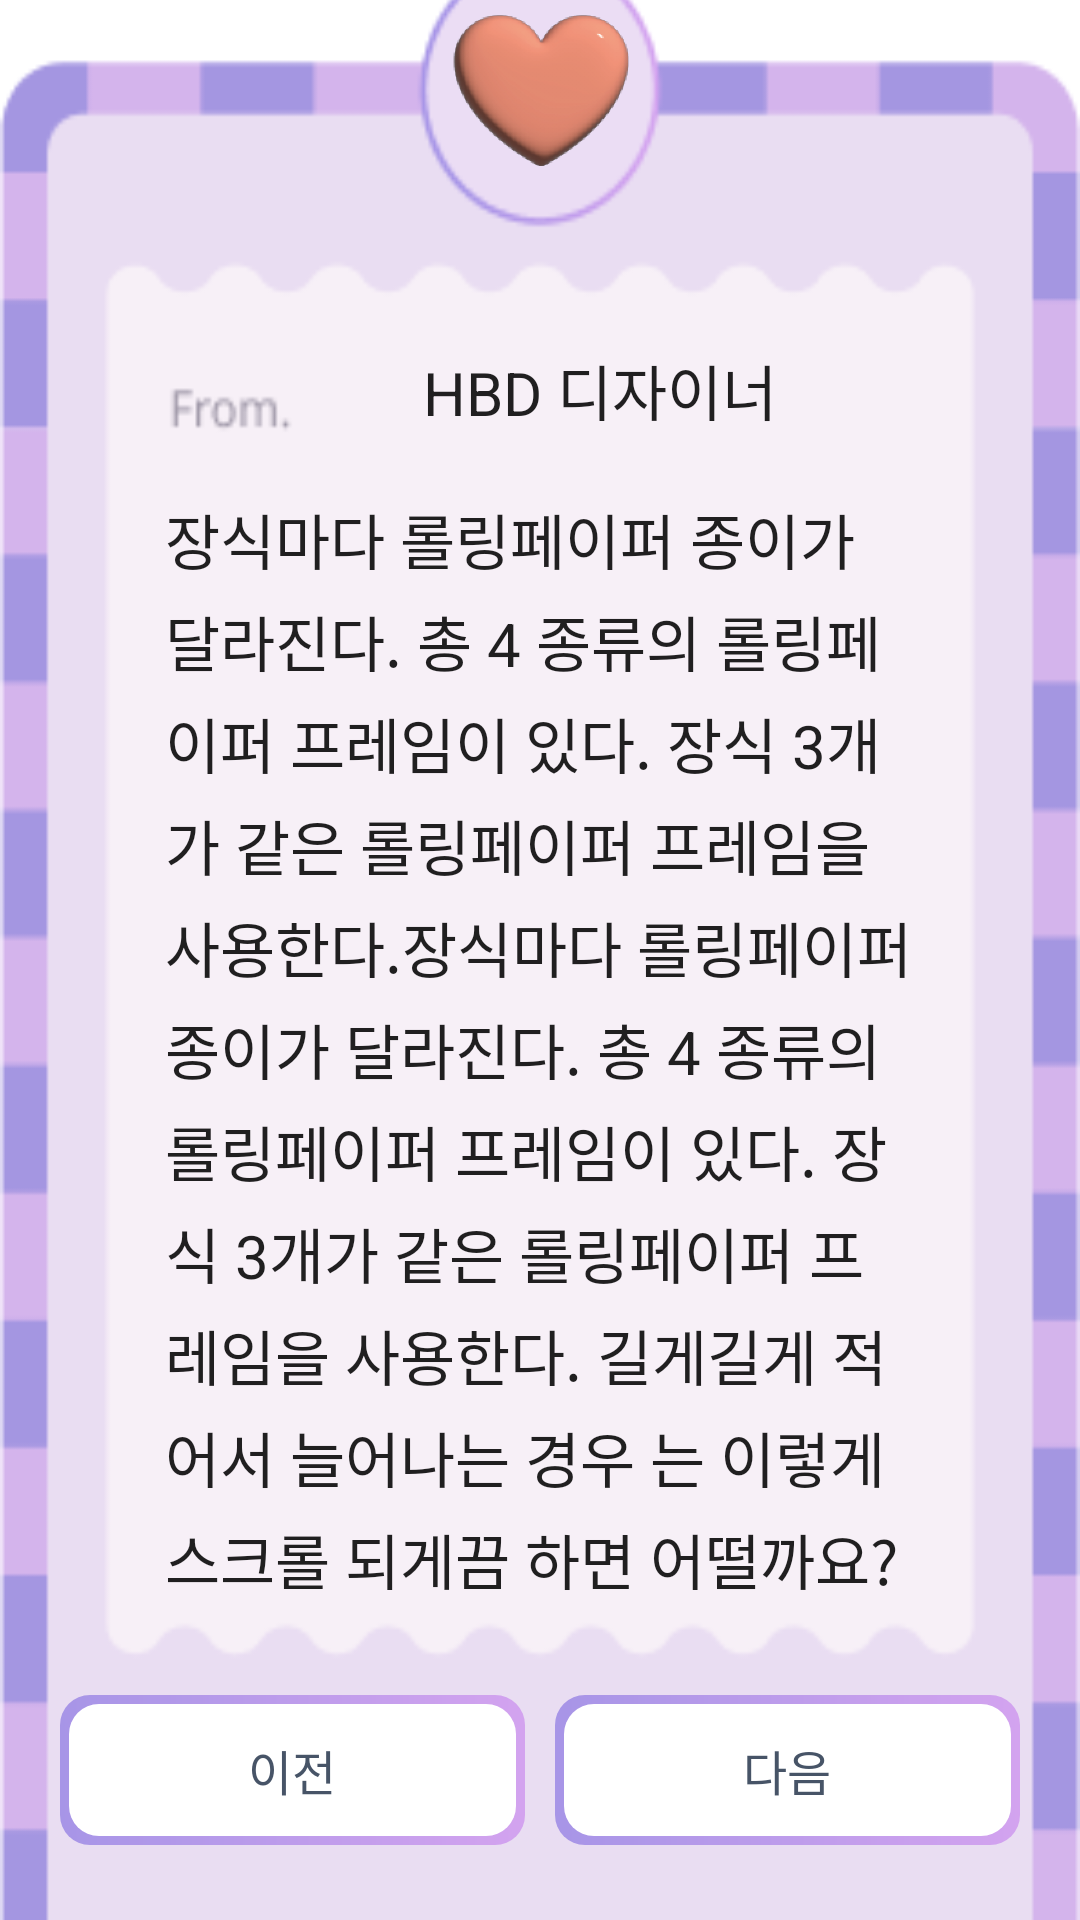

Screen size 1080px x 1920px. Icon name, then its box in pixels as BBox(x1, y1, x2, y2):
cake decorative heart: BBox(453, 15, 629, 166)
